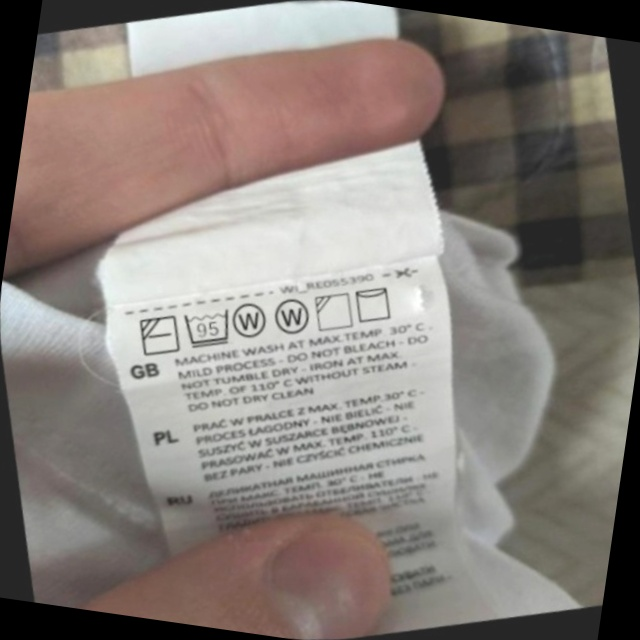95C: (173, 296, 243, 360)
dry_flat_in_shade: (128, 303, 190, 367)
line_dry: (344, 274, 404, 334)
shade_dry: (304, 282, 364, 342)
wet_clean: (222, 289, 279, 349), (264, 288, 321, 347)
